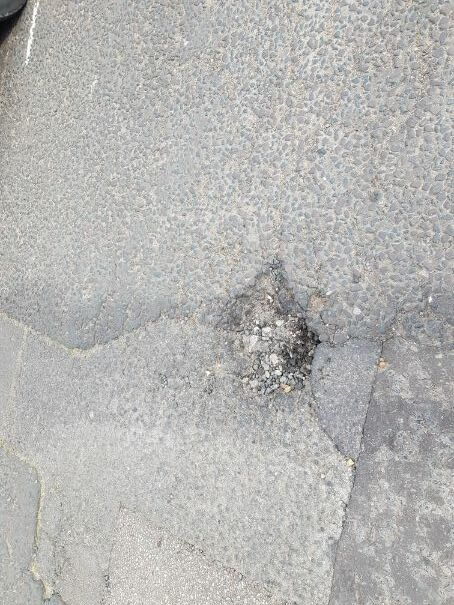pothole: (216, 250, 330, 410)
